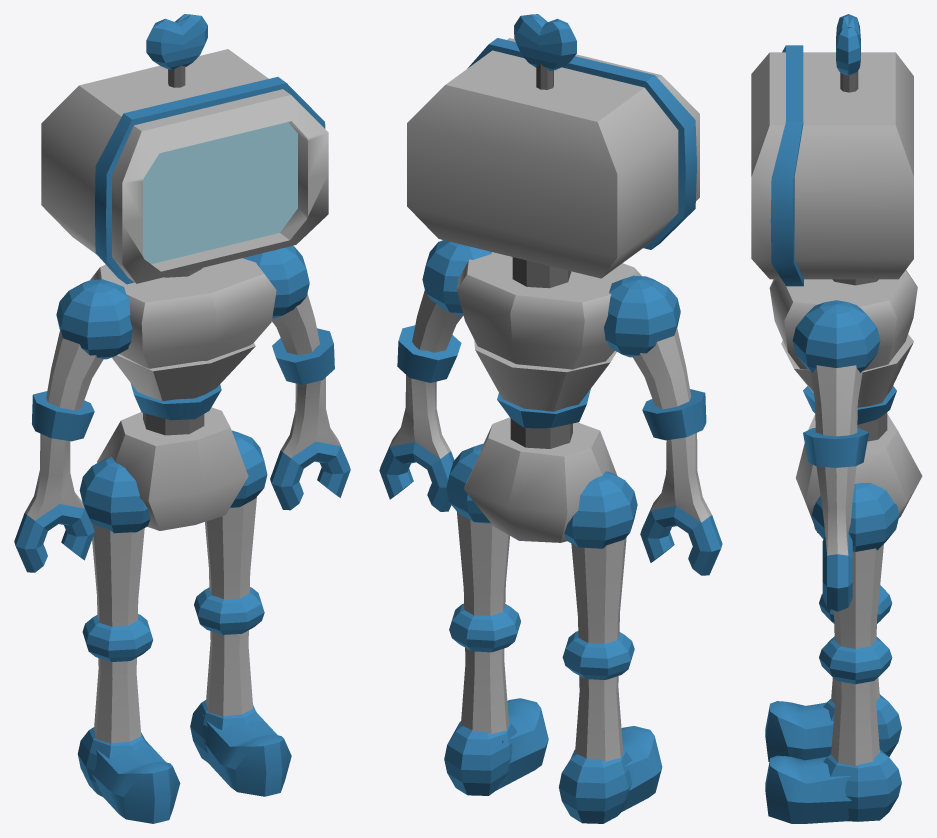
The model's file is robot.glb.
The picture shows the model from 3 angles, left to right: view 1: azimuth 30°, elevation 25°; view 2: azimuth 150°, elevation 25°; view 3: azimuth 270°, elevation 25°; orthographic projection.
Parts seen in each view (by area): view 1: polySurface1, pCylinder3, pCube7, pCube5, pCylinder4, pCylinder5, pSphere4, pTorus1, pSphere1, pSphere3, pCube4, pCube8 (+4 smaller); view 2: polySurface1, pCylinder3, pCube7, pCube5, pCylinder5, pSphere2, pSphere4, pTorus1, pSphere1, pCylinder4, pSphere3, pCube8 (+5 smaller); view 3: polySurface1, pCylinder4, pCylinder3, pCube7, pCylinder5, pSphere4, pSphere2, pCube5, pSphere1, pSphere3, pCube4, pCube8 (+5 smaller).
Part boxes in pixels (x1,y1,x2,y2): polySurface1: [41, 49, 328, 284]; pCylinder3: [92, 497, 256, 743]; pCube7: [90, 258, 276, 368]; pCube5: [97, 407, 248, 530]; pCylinder4: [92, 714, 291, 823]; pCylinder5: [24, 293, 340, 520]; pSphere4: [56, 246, 309, 359]; pTorus1: [14, 441, 350, 572]; pSphere1: [79, 430, 267, 533]; pSphere3: [82, 587, 264, 661]; pCube4: [32, 328, 334, 441]; pCube8: [112, 343, 255, 401]; polySurface1: [407, 38, 699, 278]; pCylinder3: [457, 512, 626, 761]; pCube7: [457, 252, 641, 369]; pCube5: [464, 417, 617, 542]; pCylinder5: [390, 290, 711, 522]; pSphere2: [444, 721, 632, 823]; pSphere4: [422, 240, 680, 357]; pTorus1: [379, 442, 722, 575]; pSphere1: [446, 444, 637, 548]; pCylinder4: [496, 698, 662, 811]; pSphere3: [449, 603, 634, 679]; pCube8: [474, 340, 616, 411]; polySurface1: [751, 45, 913, 286]; pCylinder4: [765, 701, 851, 823]; pCylinder3: [831, 544, 883, 766]; pCube7: [769, 270, 917, 370]; pCylinder5: [810, 365, 862, 555]; pSphere4: [792, 300, 880, 372]; pSphere2: [823, 694, 901, 821]; pCube5: [796, 414, 922, 532]; pSphere1: [811, 483, 899, 551]; pSphere3: [819, 585, 892, 684]; pCube4: [803, 428, 868, 467]; pCube8: [781, 334, 913, 407].
Bounding box in the file's own units: 0.1646 × 0.3588 × 0.0729.
1 material, 1 textured.
